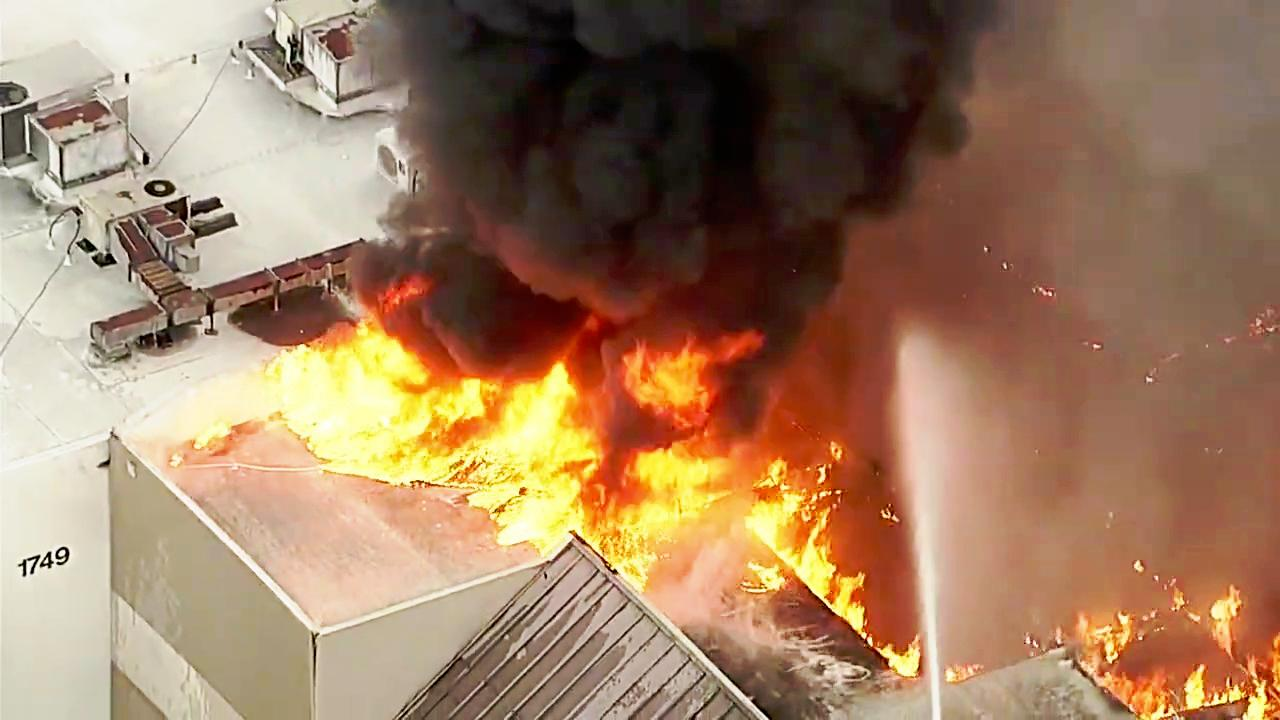fire: (414, 354, 604, 514), (275, 285, 415, 460), (631, 475, 840, 588), (1084, 604, 1280, 720)
smoke: (465, 3, 864, 324)
